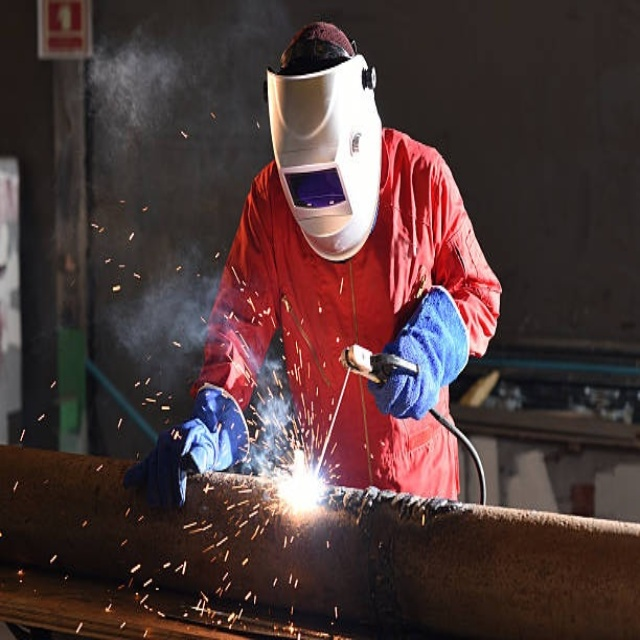Guantes: (126, 387, 250, 512), (367, 286, 469, 421)
Sin_gafas: (351, 132, 362, 155)
